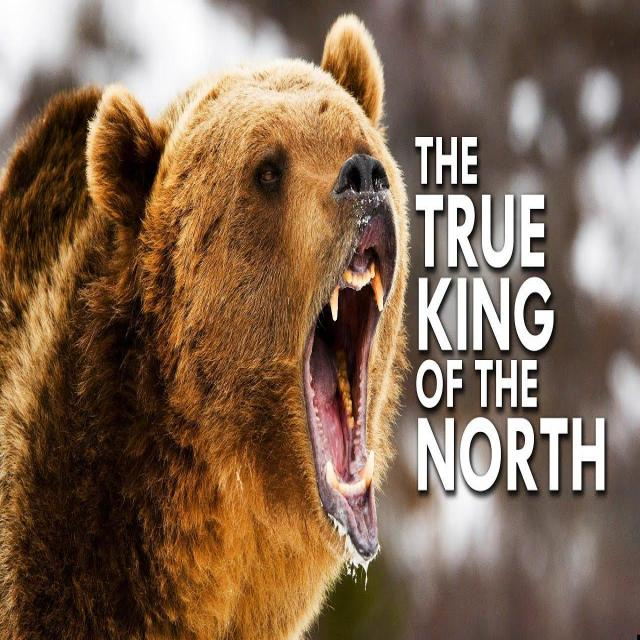Bear: (0, 13, 408, 640)
